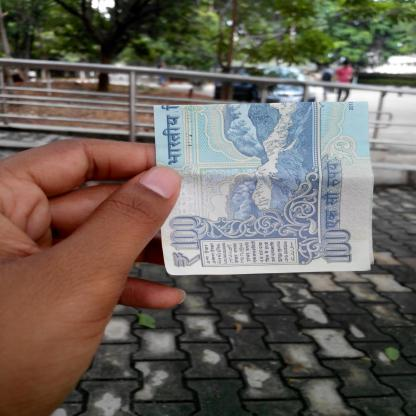Old100Back: (154, 101, 375, 275)
